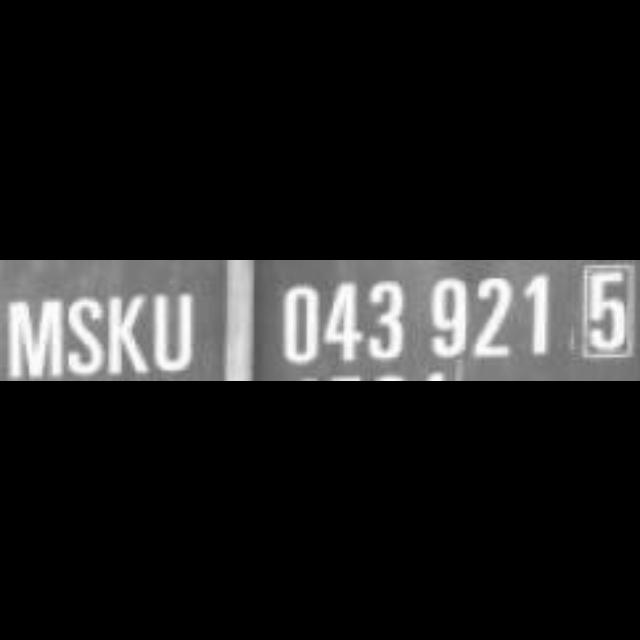0: (280, 280, 320, 366)
1: (520, 270, 554, 358)
2: (474, 271, 516, 361)
3: (369, 276, 408, 364)
4: (320, 277, 370, 373)
5: (586, 264, 628, 350)
9: (427, 274, 469, 362)
k: (107, 290, 153, 380)
m: (0, 296, 66, 380)
s: (66, 294, 104, 376)
u: (153, 288, 195, 377)
